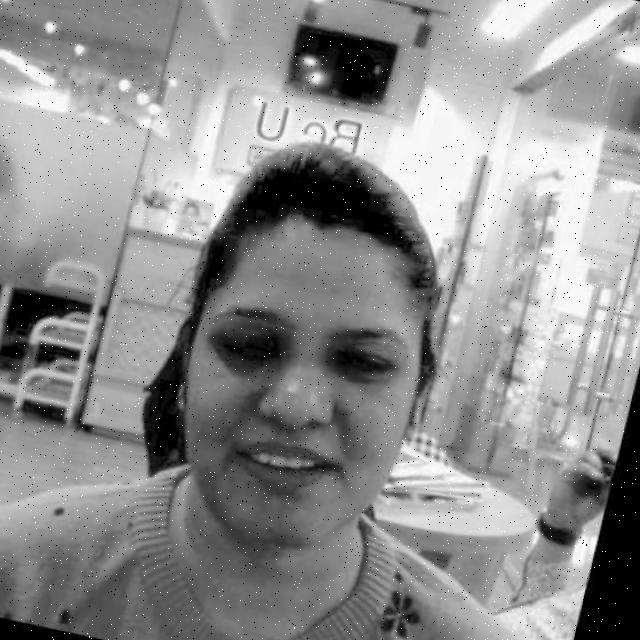puffy_eyes: (226, 353, 287, 378)
